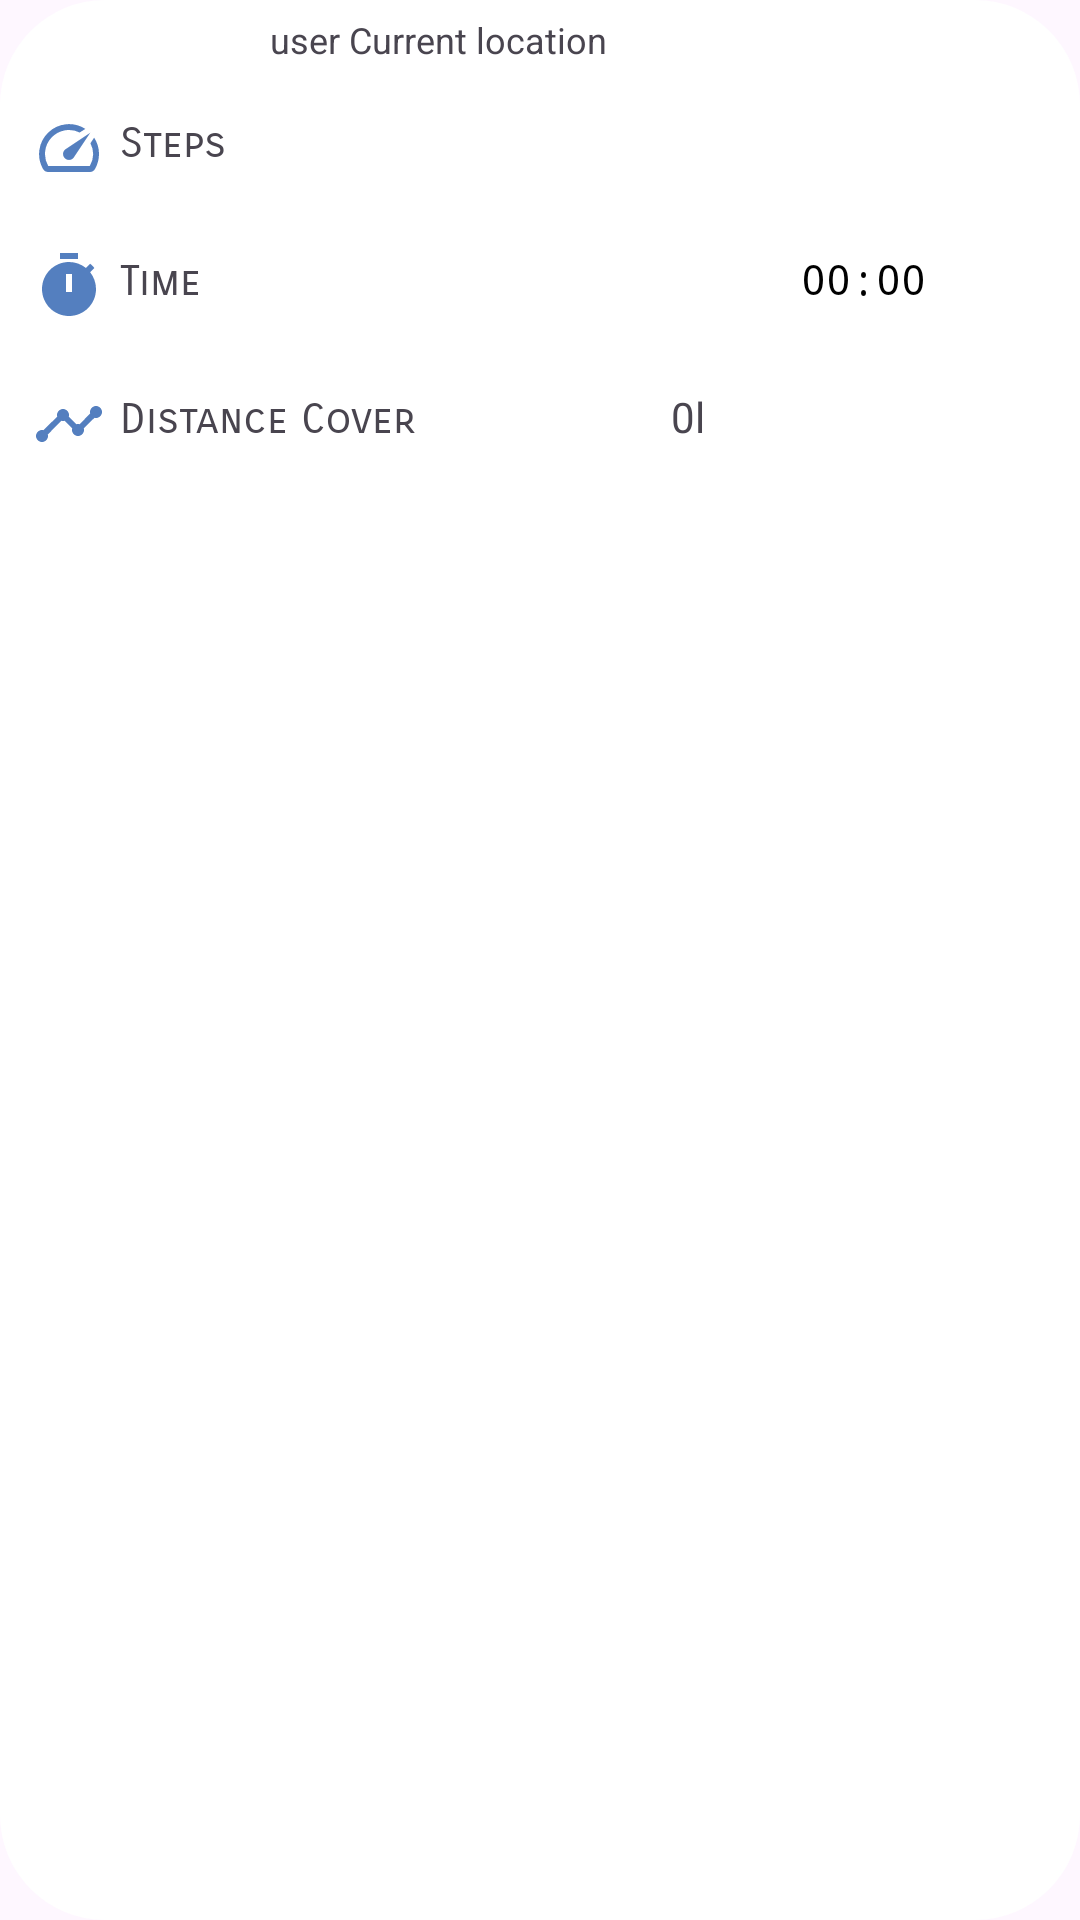

Point at icon controls on the screen. Image size 1080×1920, points as (x=x, y=y).
speed: (x=69, y=148)
